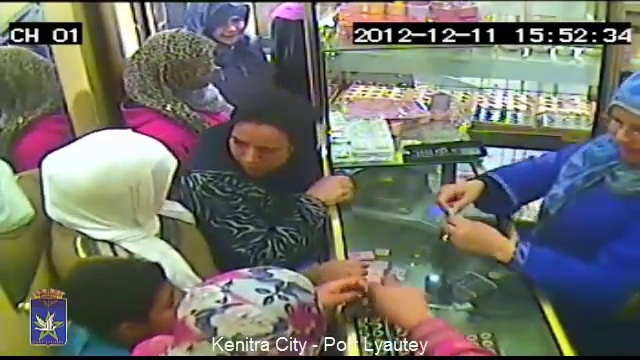face: (229, 126, 283, 174), (609, 106, 640, 161), (215, 15, 243, 44)
